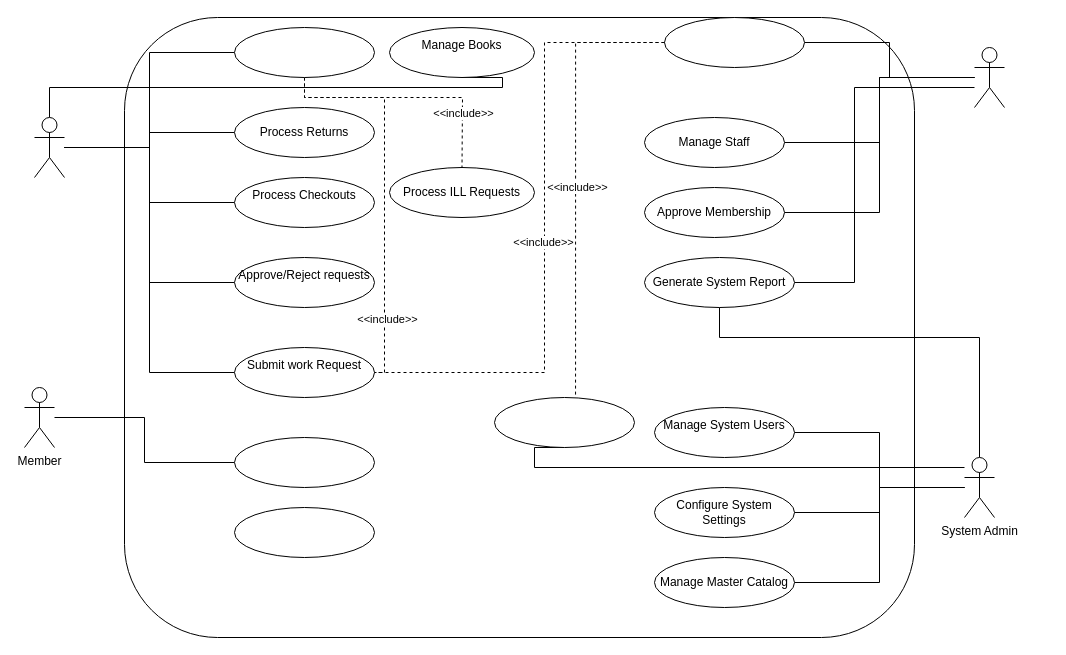
Some shapes in this 1066 by 655 pixel diagram are drawn without their labels. Here are the shapes that lost their labels. From the top down, the box of each, then its label:
(234, 26, 374, 78): Create ILL Request
(664, 16, 804, 68): Request Book Acquisition
(974, 46, 1004, 108): Library Director Admin
(34, 116, 64, 178): Library
(494, 396, 634, 448): Handle Book Acquisition
(234, 436, 374, 488): Track Request Status
(234, 506, 374, 558): Use Case
